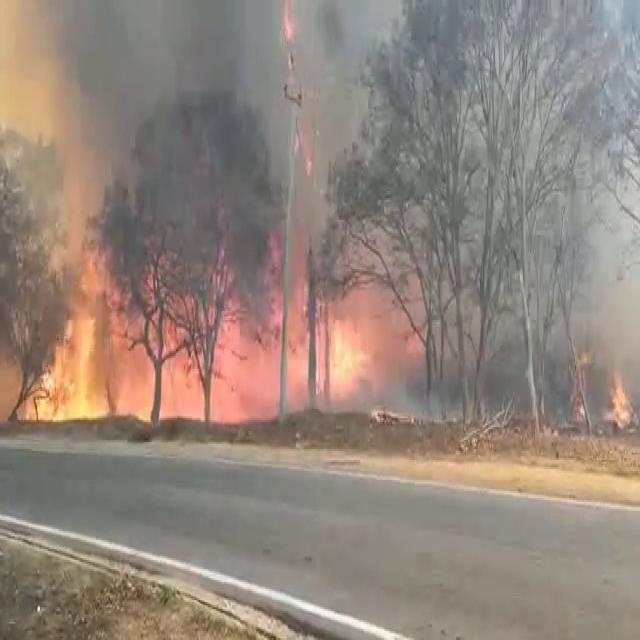Fire: (233, 269, 436, 419), (47, 286, 266, 418), (330, 322, 364, 401), (280, 0, 302, 55), (611, 380, 633, 428)
Smoke: (411, 16, 636, 256), (66, 0, 275, 224), (315, 0, 423, 259), (1, 11, 68, 242)
